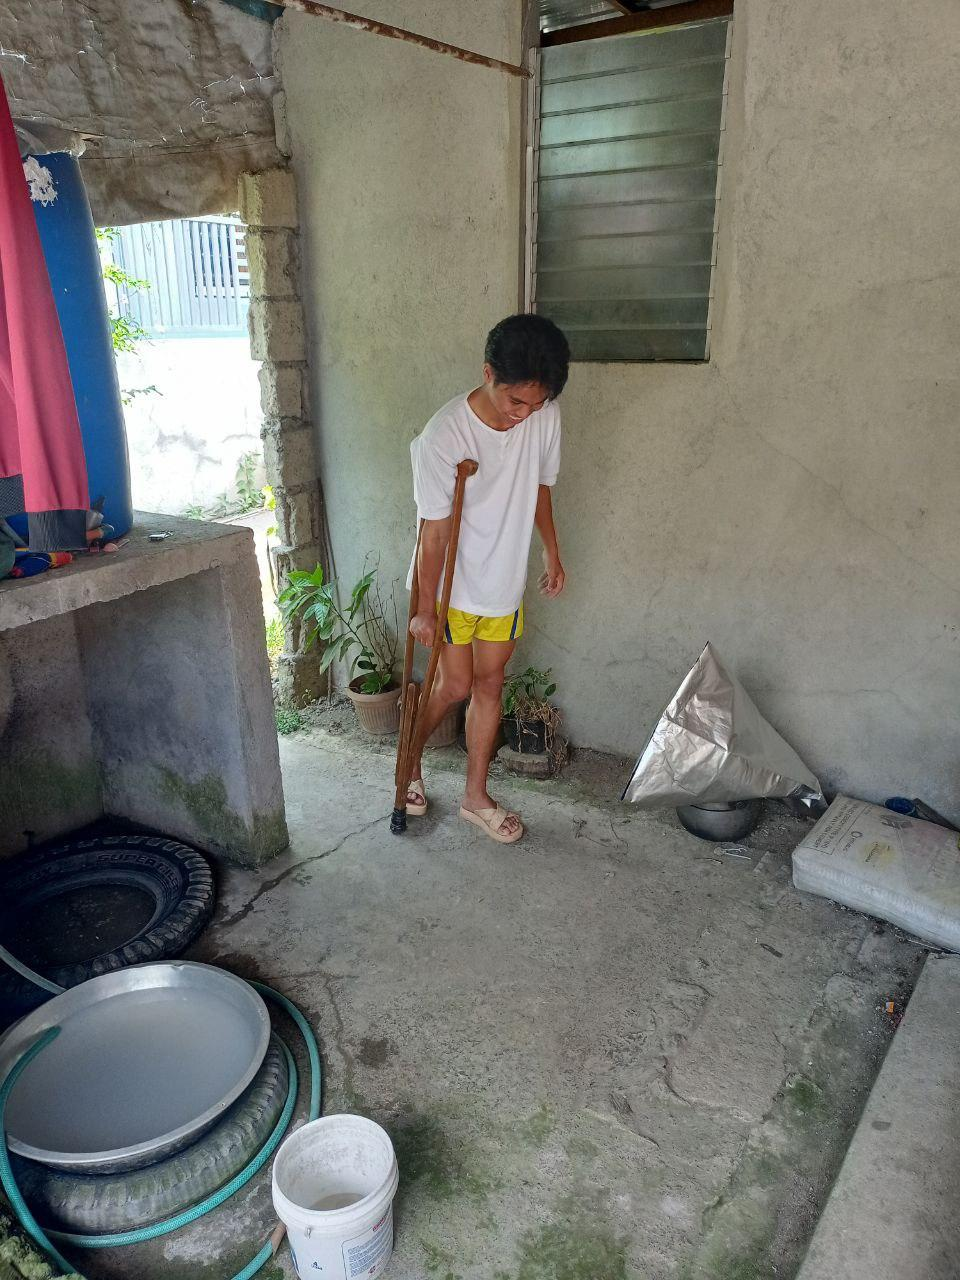crutches: (385, 308, 573, 855)
